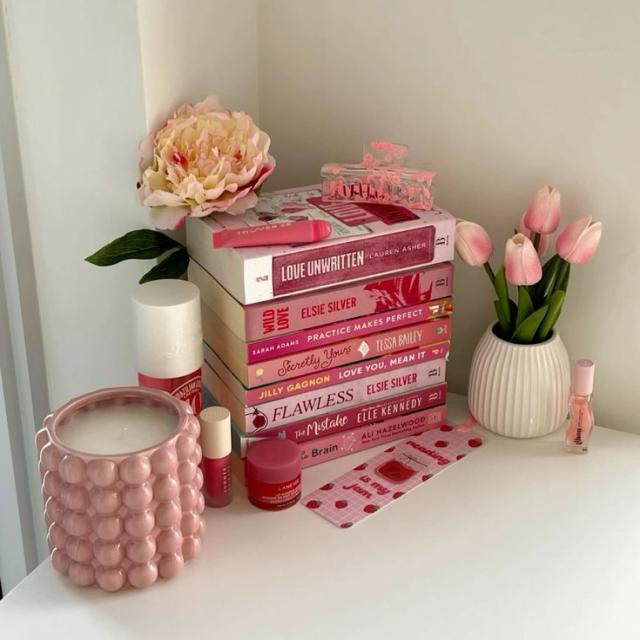book: (243, 218, 455, 305), (246, 267, 453, 341), (246, 357, 447, 432), (249, 315, 452, 389), (247, 298, 453, 365), (246, 340, 450, 407), (266, 385, 446, 442), (305, 405, 444, 466)
candle: (37, 386, 204, 591)
flowers: (455, 186, 602, 438), (138, 96, 274, 229)
